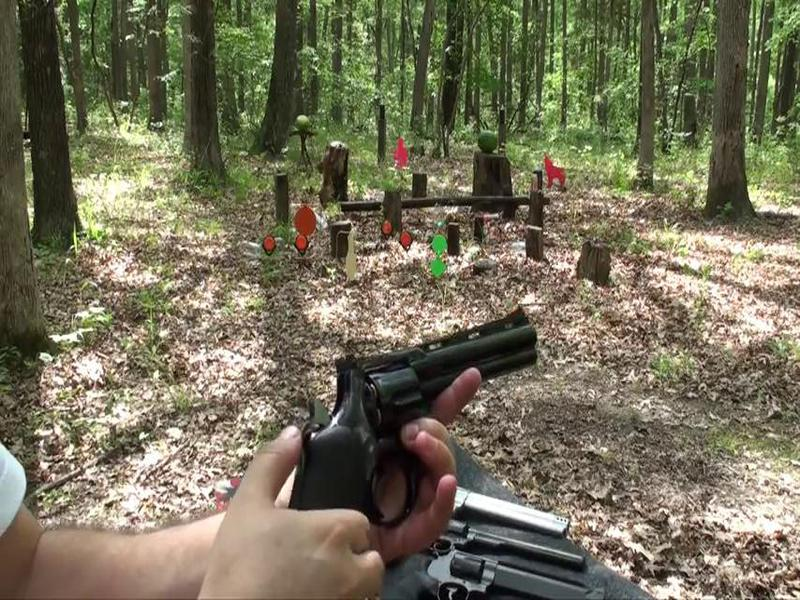Revolver: (288, 304, 547, 541)
